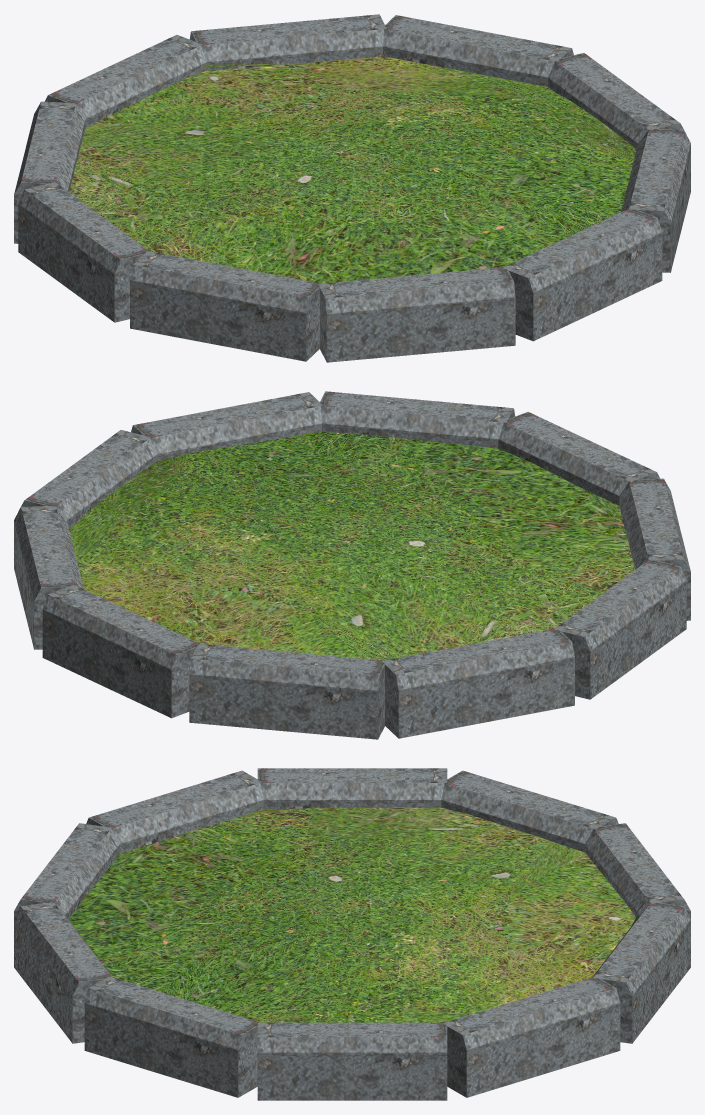
File: parterre_herbe_L.fbx
3 renders of one model, top to bottom at view 1: azimuth 30°, elevation 25°; view 2: azimuth 150°, elevation 25°; view 3: azimuth 270°, elevation 25°, orthographic.
Parts seen in each view (by area): view 1: parterre_herbe_L.002; view 2: parterre_herbe_L.002; view 3: parterre_herbe_L.002.
Boxes of the visible parts, bbox=[...] form: parterre_herbe_L.002: bbox=[14, 14, 690, 362]; parterre_herbe_L.002: bbox=[14, 391, 690, 739]; parterre_herbe_L.002: bbox=[14, 768, 690, 1100].
Bounding box in the file's own units: 20.57 × 2.11 × 21.42.
2 materials, 2 textured.
